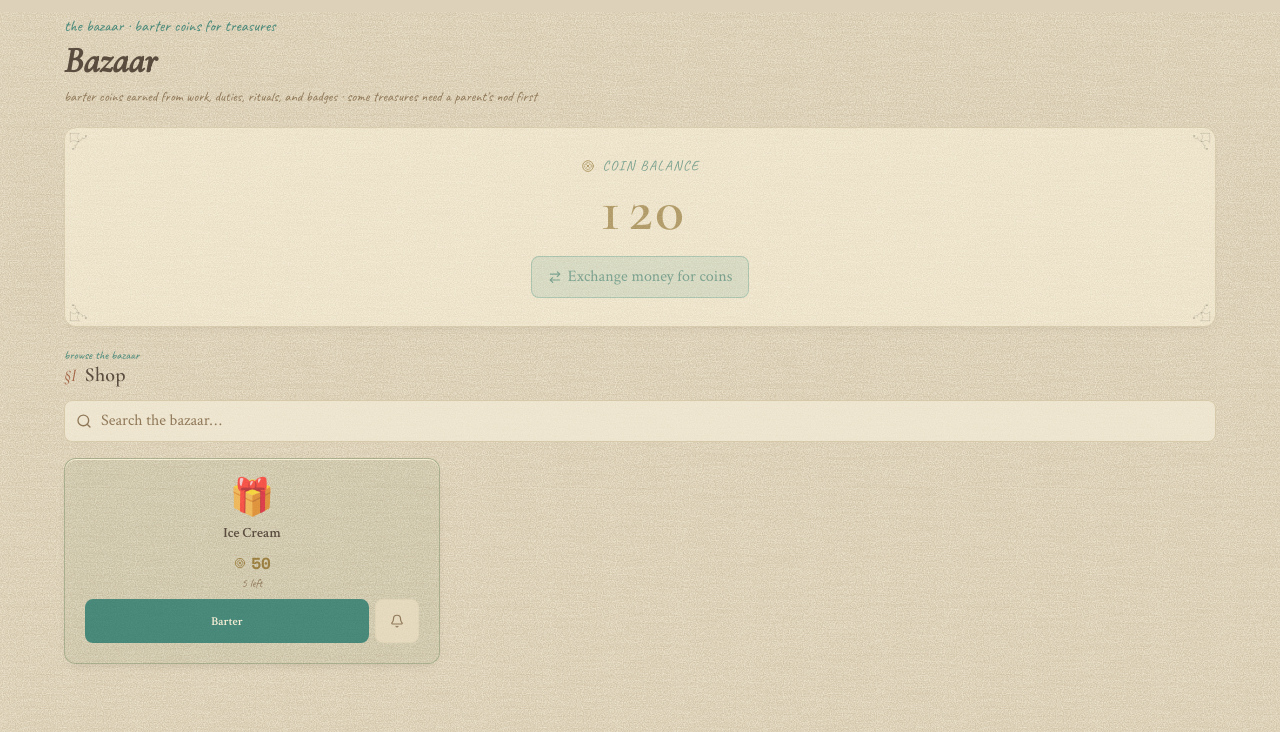
Rewards › wishlist toggle optimistically flips before the server responds
This screenshot has width=1280, height=732.
Click the button named "add ice cream to wishlist".
click(397, 621)  # box [375, 599, 419, 643]
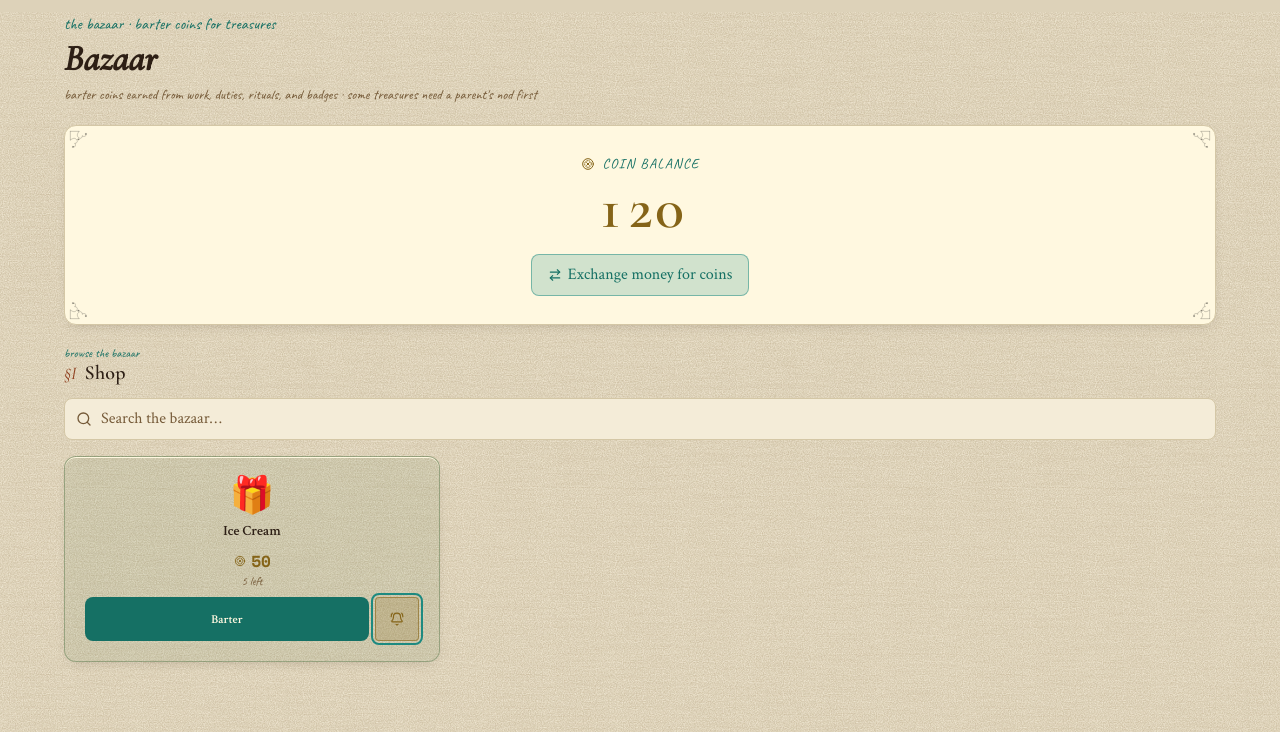
Expected: the button named "remove ice cream from wishlist" is shown, [375, 597, 419, 641]
